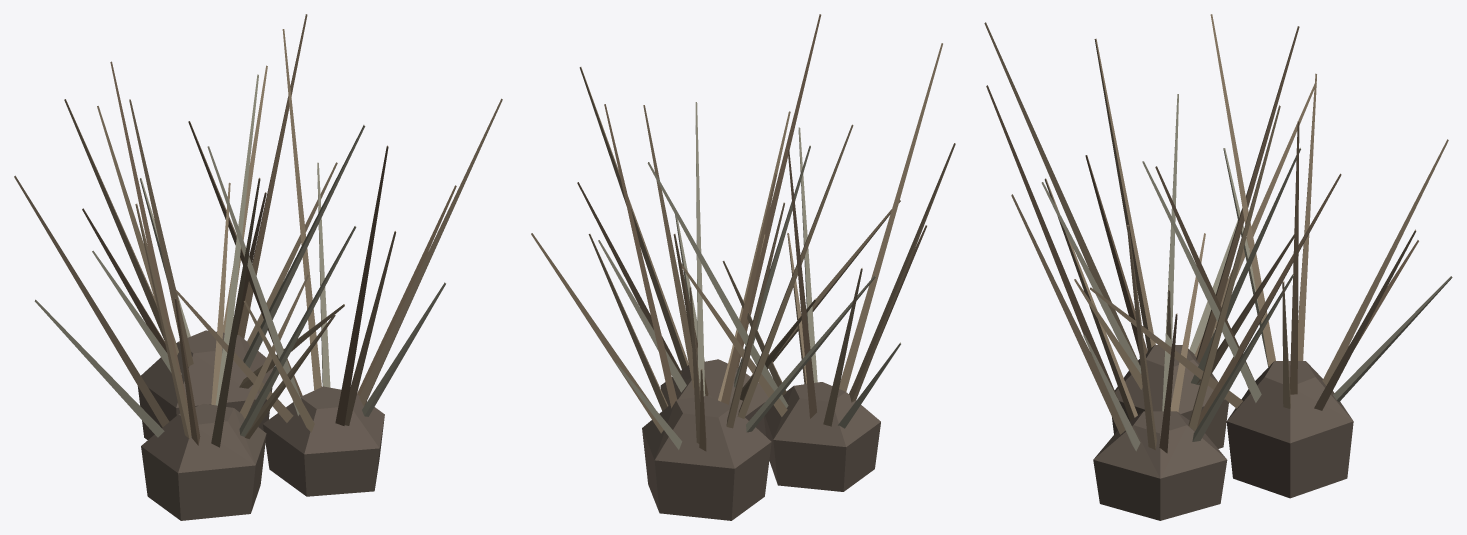
File: thicket.glb
3 renders of one model, left to right at view 1: azimuth 30°, elevation 25°; view 2: azimuth 150°, elevation 25°; view 3: azimuth 270°, elevation 25°, orthographic. The views are drawn at different scales.
Parts seen in each view (by area): view 1: thicket; view 2: thicket; view 3: thicket.
Part boxes in pixels (x1=…): thicket: x1=14, y1=14, x2=502, y2=520; thicket: x1=531, y1=14, x2=955, y2=520; thicket: x1=984, y1=14, x2=1452, y2=520.
Bounding box in the file's own units: 1.92 × 1.8 × 1.92.
